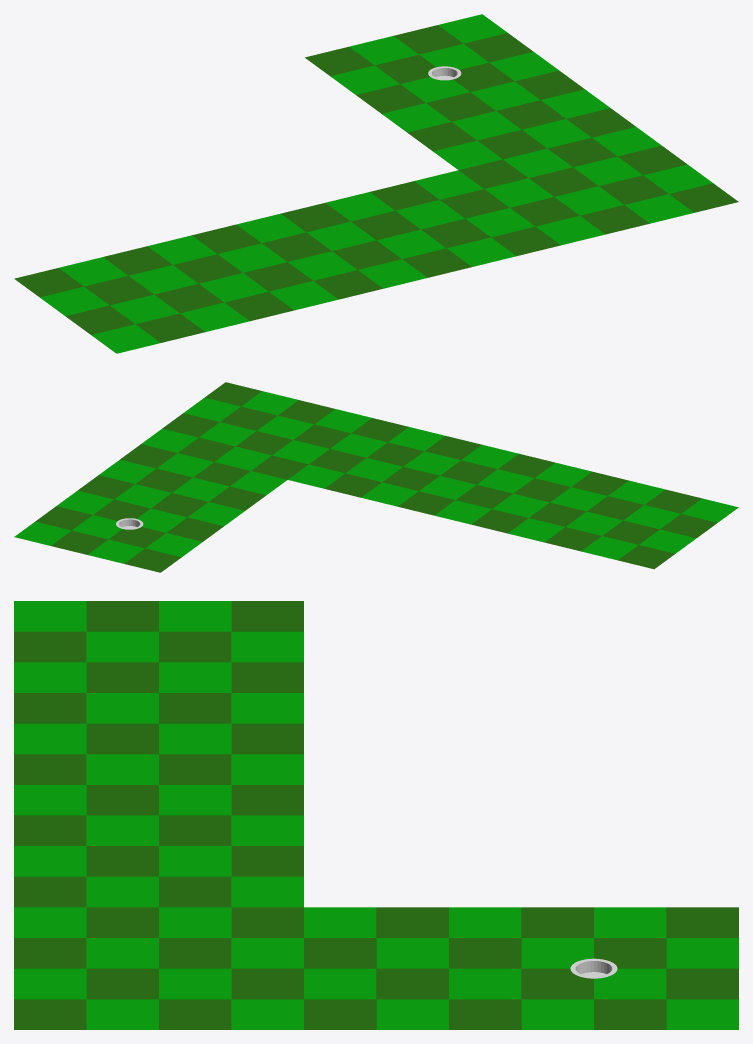
Rendered from finalGreen2.fbx.
3 renders of one model, top to bottom at view 1: azimuth 30°, elevation 25°; view 2: azimuth 150°, elevation 25°; view 3: azimuth 270°, elevation 25°, orthographic. The views are drawn at different scales.
Parts seen in each view (by area): view 1: Plane; view 2: Plane; view 3: Plane, Cylinder.
Part boxes in pixels (x1,y1,x2,y2): Plane: (14, 14, 738, 353); Plane: (14, 382, 738, 572); Plane: (14, 601, 738, 1029); Cylinder: (570, 958, 617, 978).
Bounding box in the file's own units: 2800 × 130 × 2000.
